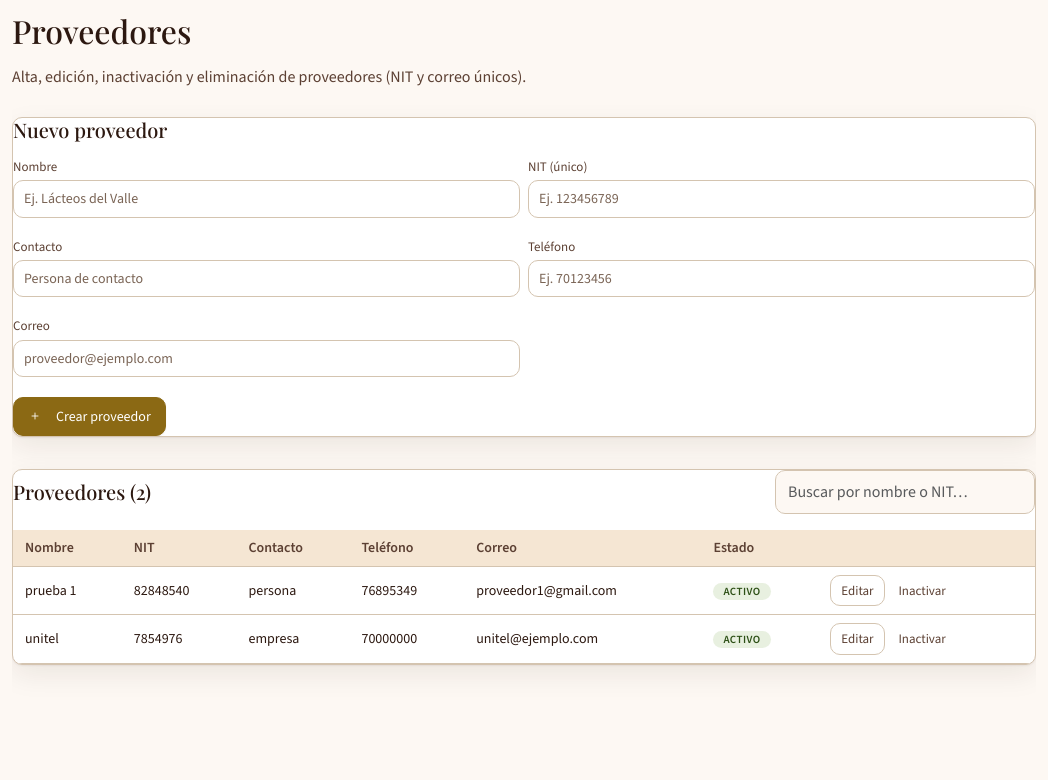
Test: Proveedores › muestra el error de correo duplicado bajo el campo
Check: the text "prueba 1" is shown, box [13,566,122,615]
Type "Pedro" into the field labelled "Nombre" at {"x": 266, "y": 199}, box [13,180,520,218]
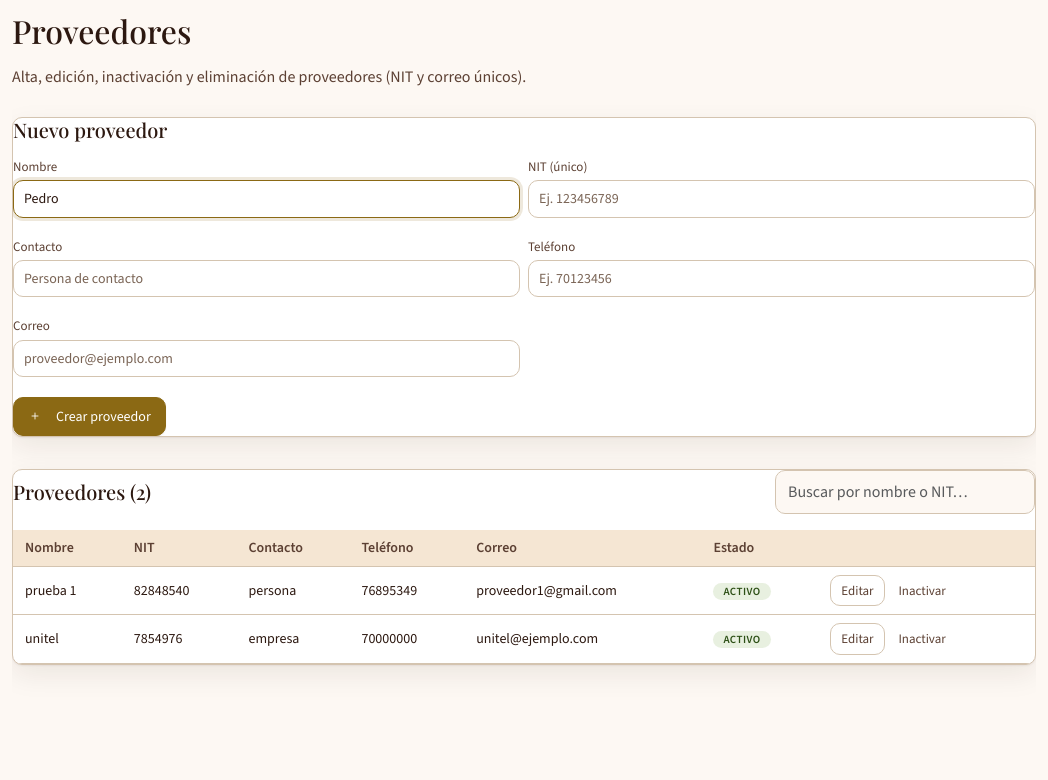
Type "proveedor1@gmail.com" into the field labelled "Correo" at {"x": 266, "y": 358}, box [13,340,520,377]
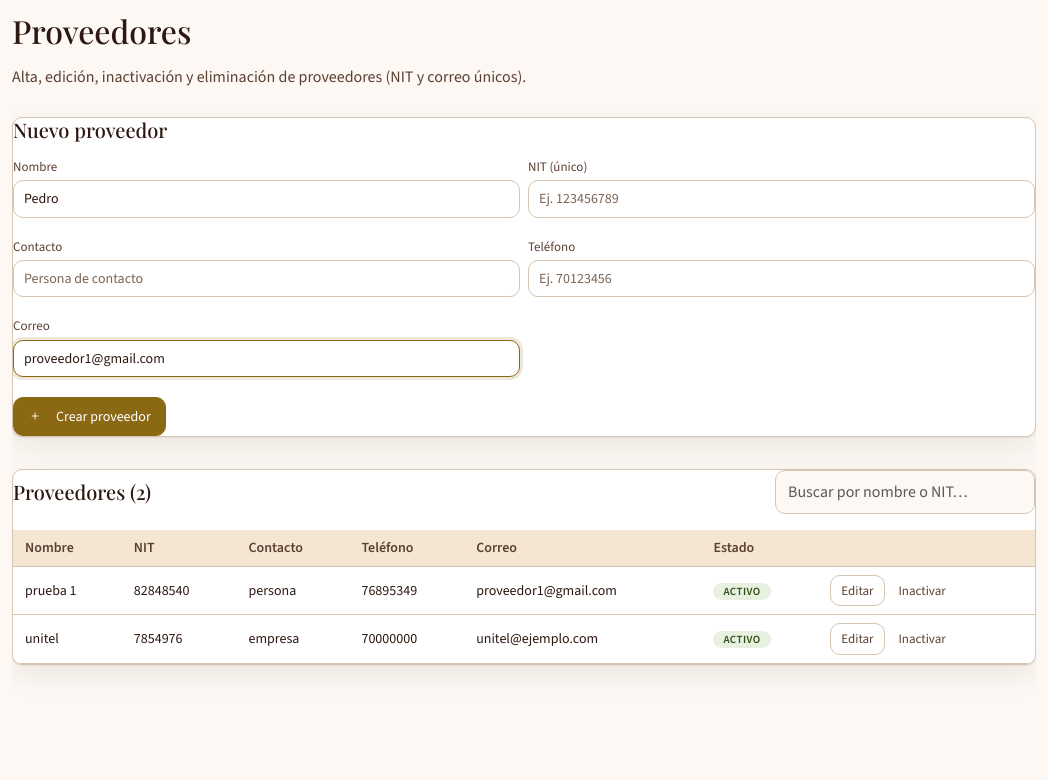
Click the button "Crear proveedor" at {"x": 89, "y": 417}, box [13,397,166,436]
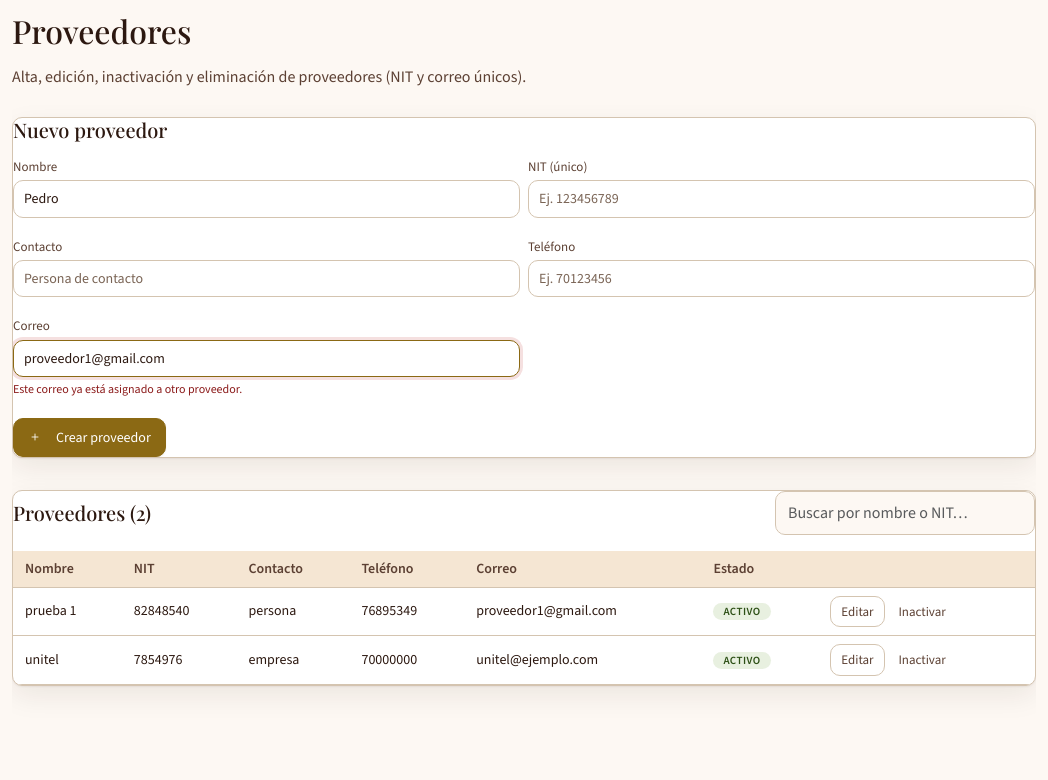
Check: the text "Este correo ya está asignado a otro proveedor." is shown, box [13,381,242,397]
